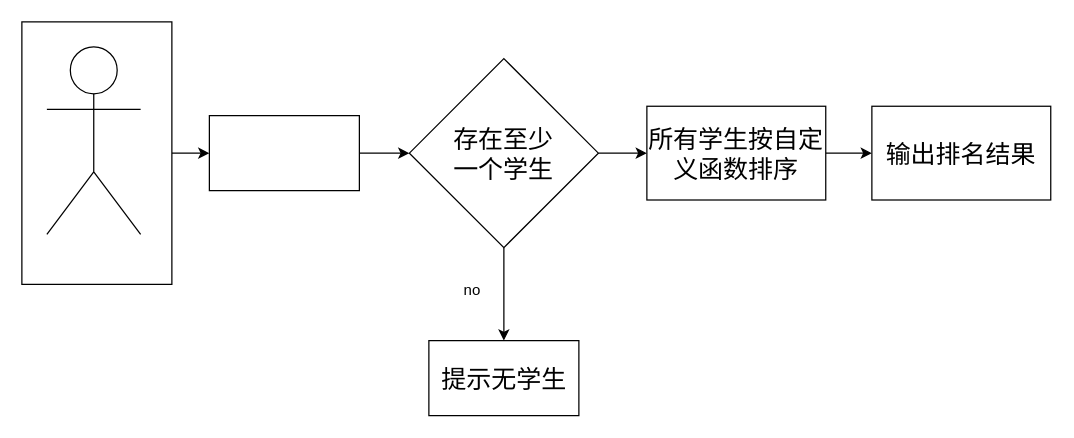
Some shapes in this 1074 by 438 pixel diagram are drawn without their labels. Here are the shapes that lost their labels. From the top down, the centre of each, then its label:
At [93,140]: "Actor".
At [283,152]: "请求排名".
